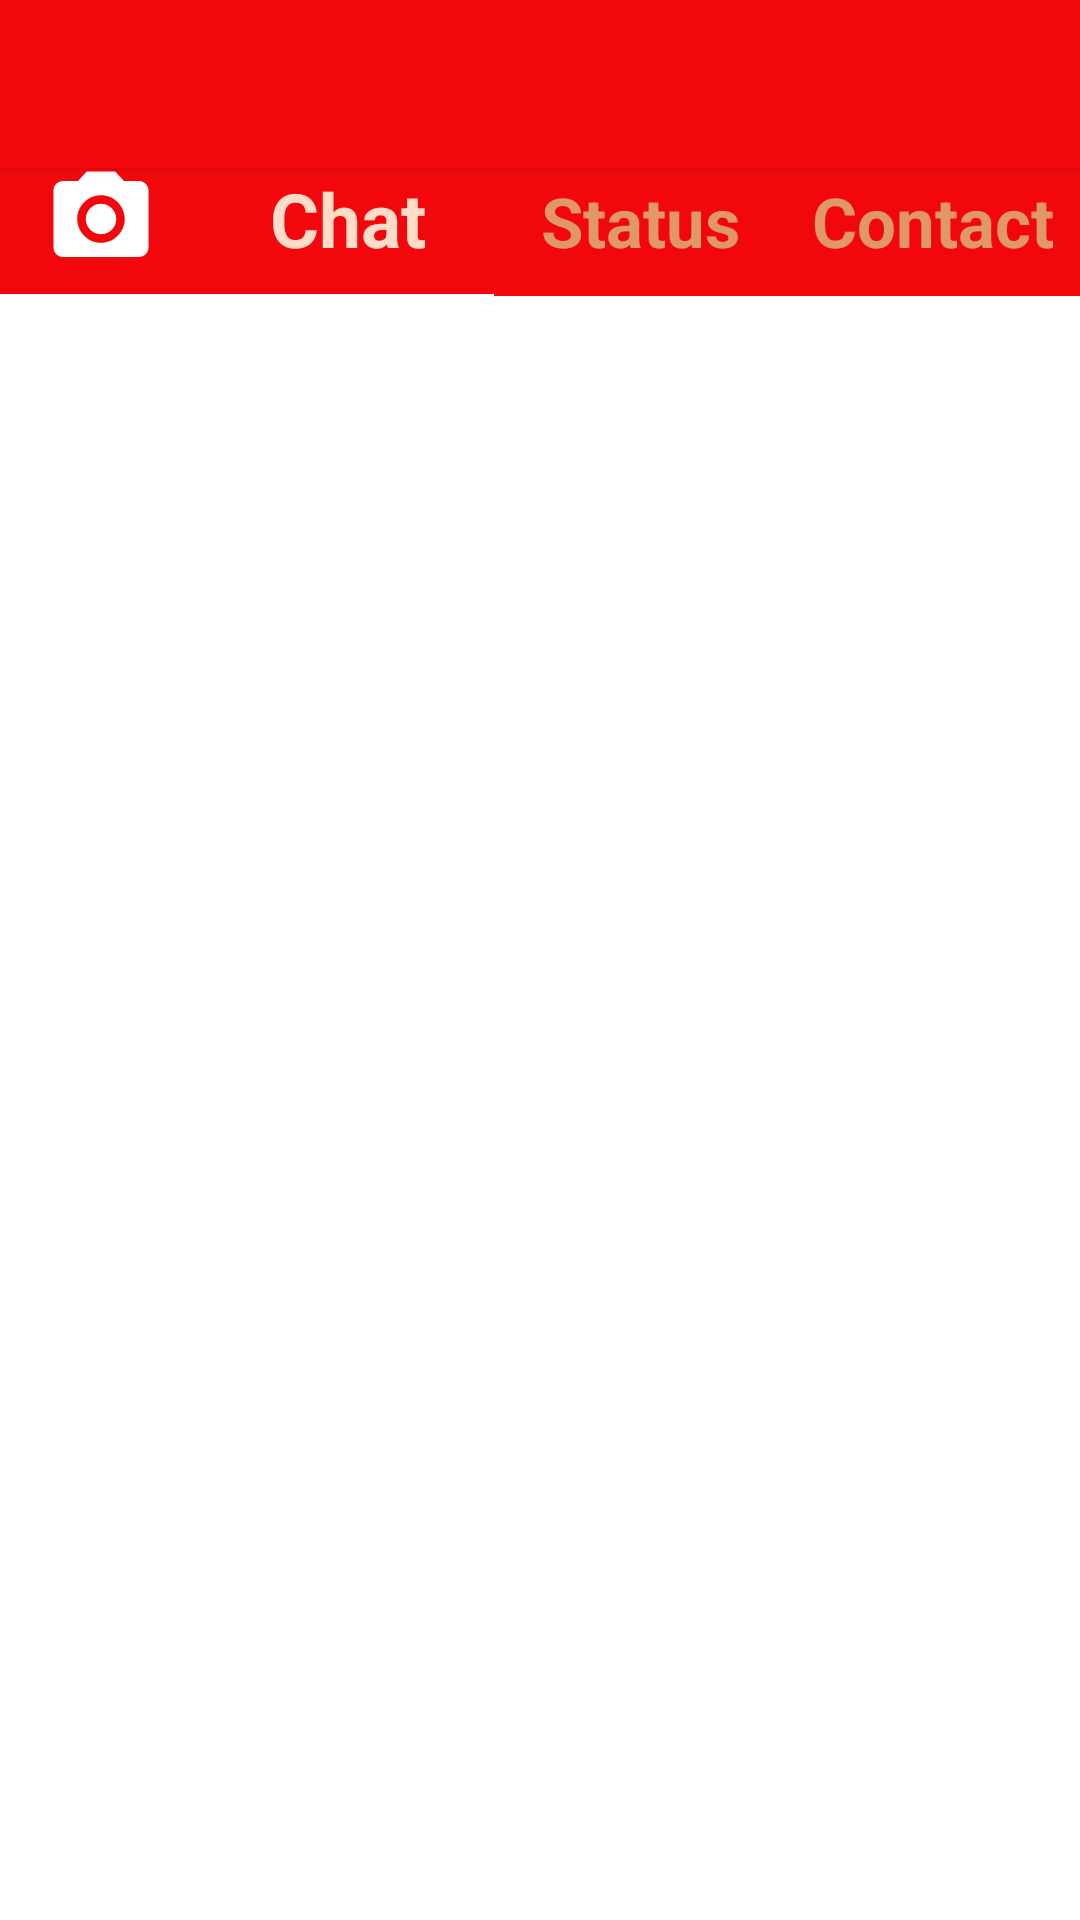

Icon bounding boxes for this 1080 × 1920 phone screenshot, format {"left": x1, "top": y1, "right": x2, "bottom": y2}:
photo camera: {"left": 53, "top": 171, "right": 149, "bottom": 257}
